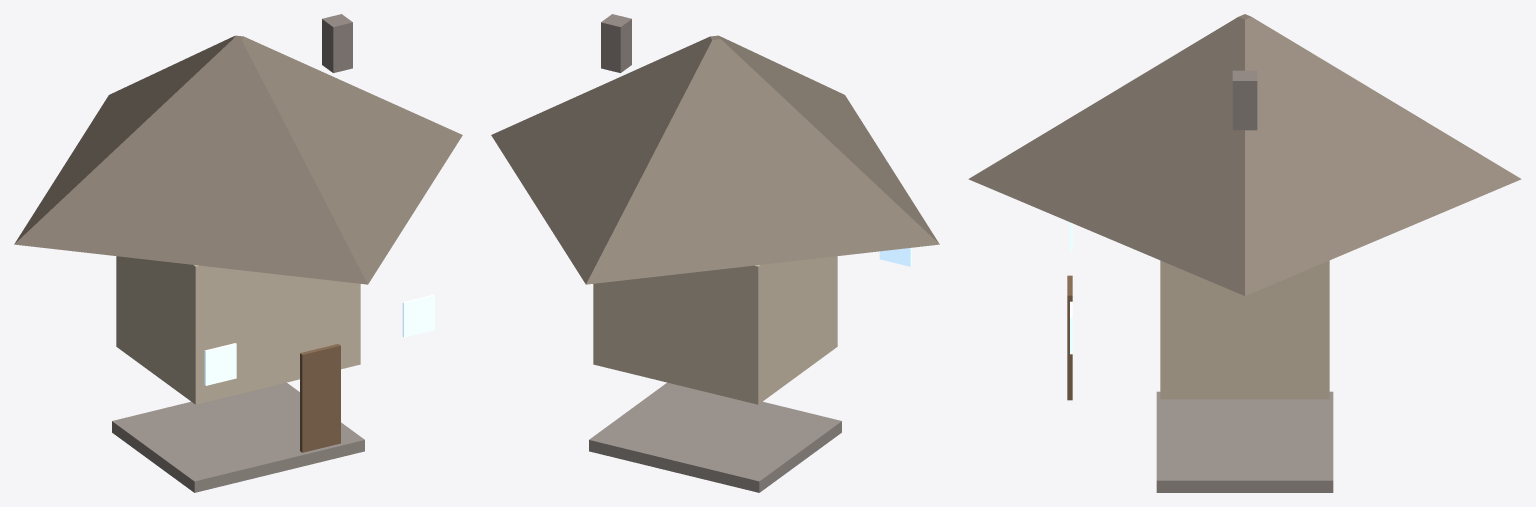
Rendered from VillageCottageB.fbx.
3 views of the same model, side by side, from view 1: azimuth 30°, elevation 25°; view 2: azimuth 150°, elevation 25°; view 3: azimuth 270°, elevation 25° (orthographic). The views are drawn at different scales.
Visible parts, largest first — view 1: VillageCottageB; view 2: VillageCottageB; view 3: VillageCottageB.
Part boxes in pixels (x1=…): VillageCottageB: x1=14, y1=14, x2=462, y2=492; VillageCottageB: x1=491, y1=14, x2=939, y2=492; VillageCottageB: x1=968, y1=14, x2=1521, y2=492.
Bounding box in the file's own units: 408 × 351 × 408.
